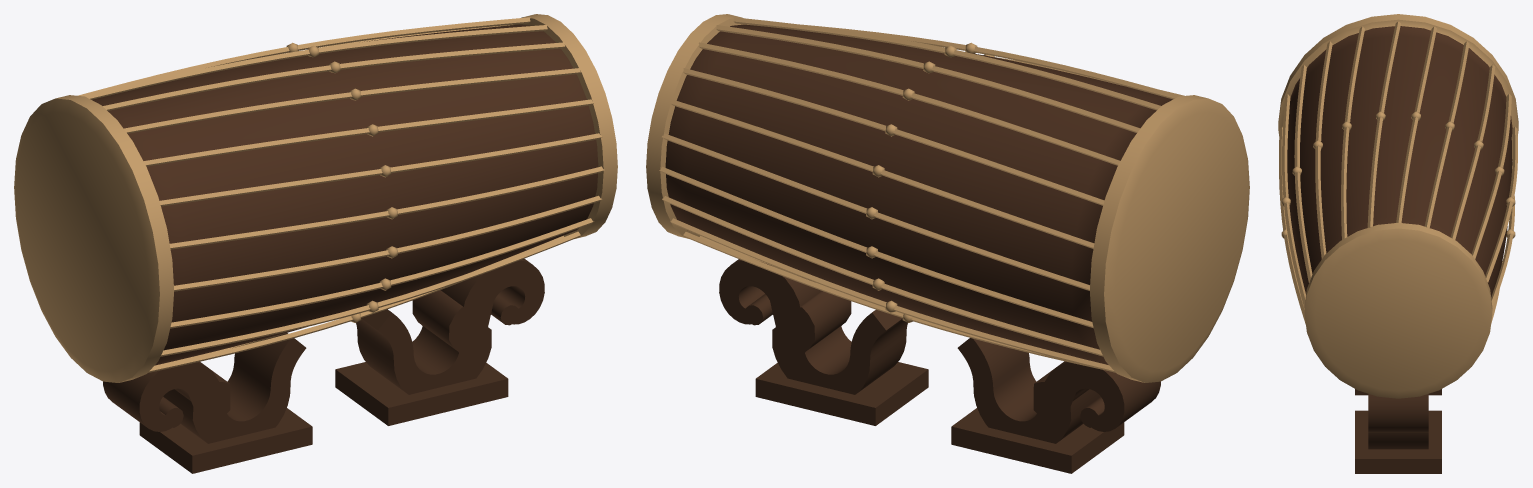
Rendered from KendhangSet.fbx.
3 renders of one model, left to right at view 1: azimuth 30°, elevation 25°; view 2: azimuth 150°, elevation 25°; view 3: azimuth 270°, elevation 25°, orthographic. The views are drawn at different scales.
Parts seen in each view (by area): view 1: KendhangSet_Mesh; view 2: KendhangSet_Mesh; view 3: KendhangSet_Mesh.
Part boxes in pixels (x1,y1,x2,y2): KendhangSet_Mesh: (14, 14, 617, 473); KendhangSet_Mesh: (646, 14, 1249, 473); KendhangSet_Mesh: (1278, 14, 1518, 473).
Size of the model in its own units: 0.612 by 0.442 by 0.32.
